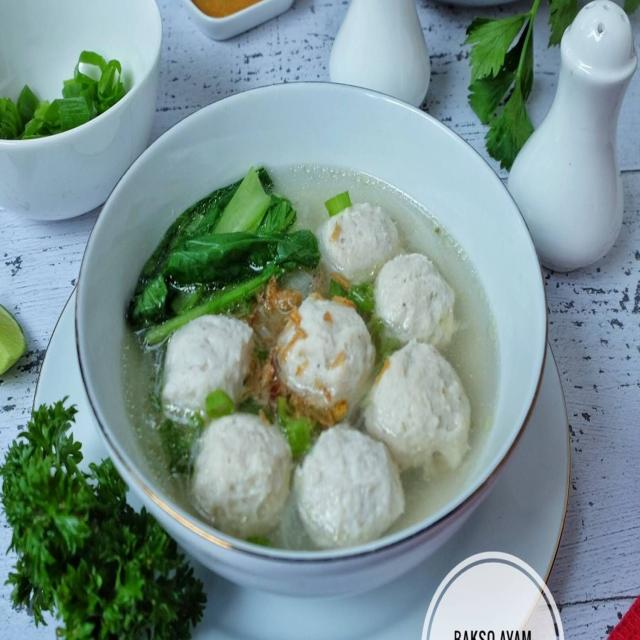bakso: (119, 159, 498, 552)
mangkuk: (71, 81, 552, 615), (0, 0, 162, 223)
